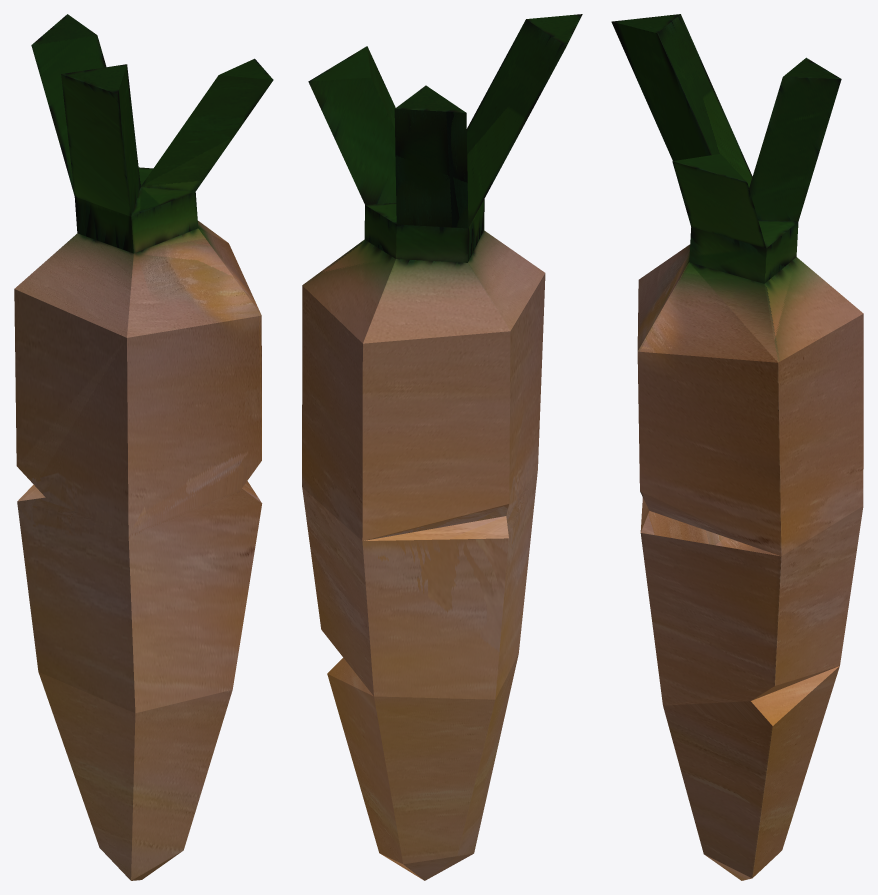
Rendered from carrot.glb.
3 renders of one model, left to right at view 1: azimuth 30°, elevation 25°; view 2: azimuth 150°, elevation 25°; view 3: azimuth 270°, elevation 25°, orthographic. The views are drawn at different scales.
Parts seen in each view (by area): view 1: carrot; view 2: carrot; view 3: carrot.
Boxes of the visible parts, bbox=[...] form: carrot: bbox=[14, 14, 273, 880]; carrot: bbox=[302, 14, 582, 880]; carrot: bbox=[611, 14, 863, 880].
Bounding box in the file's own units: 0.2112 × 0.7607 × 0.2122.
Materials: 1 (1 with a texture image).
